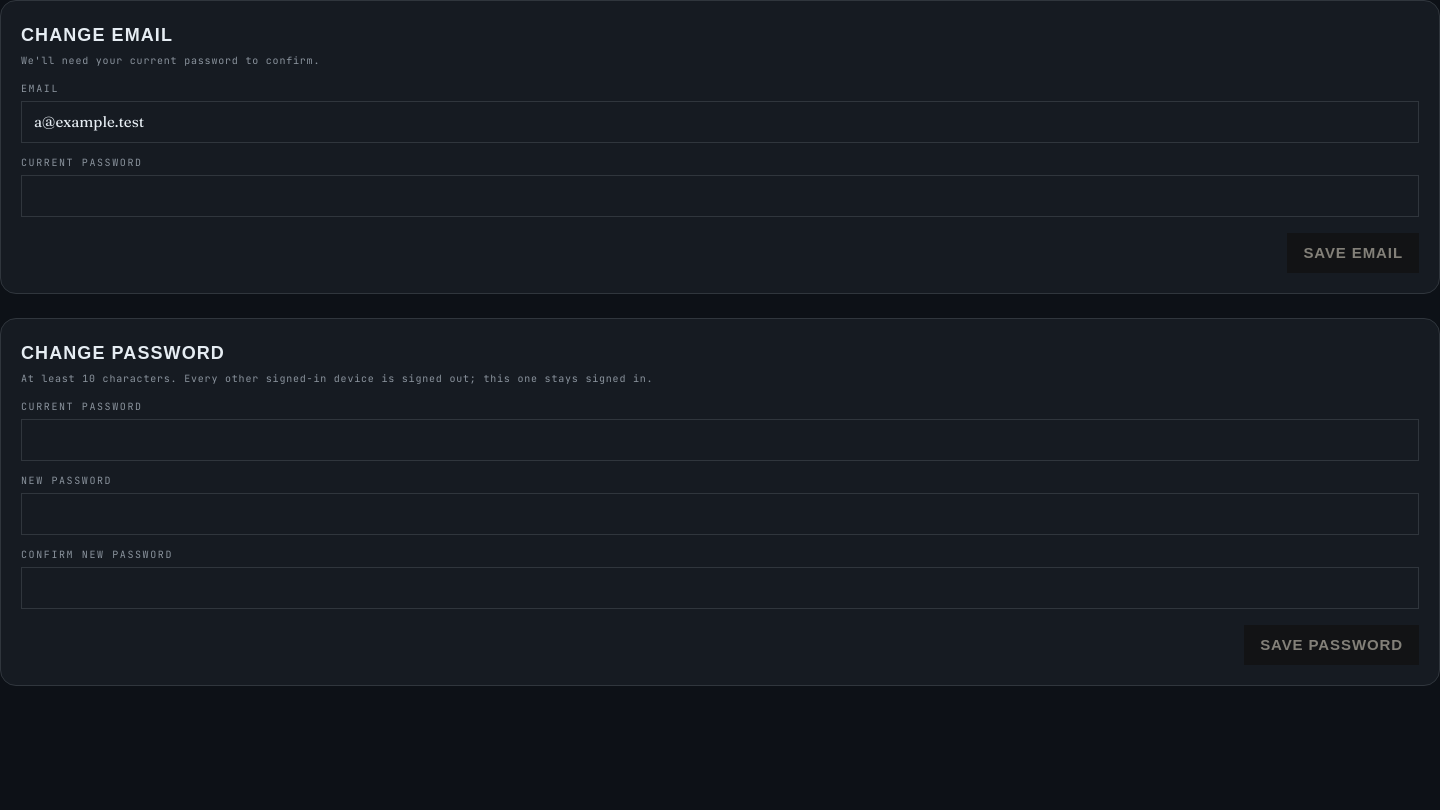
an indeterminate outcome is not called a failure › still reports a DEFINITE rejection plainly
Type "old-password" into the password field labelled "CURRENT PASSWORD" below "Change password" at (720, 440), box [21,419,1419,461]
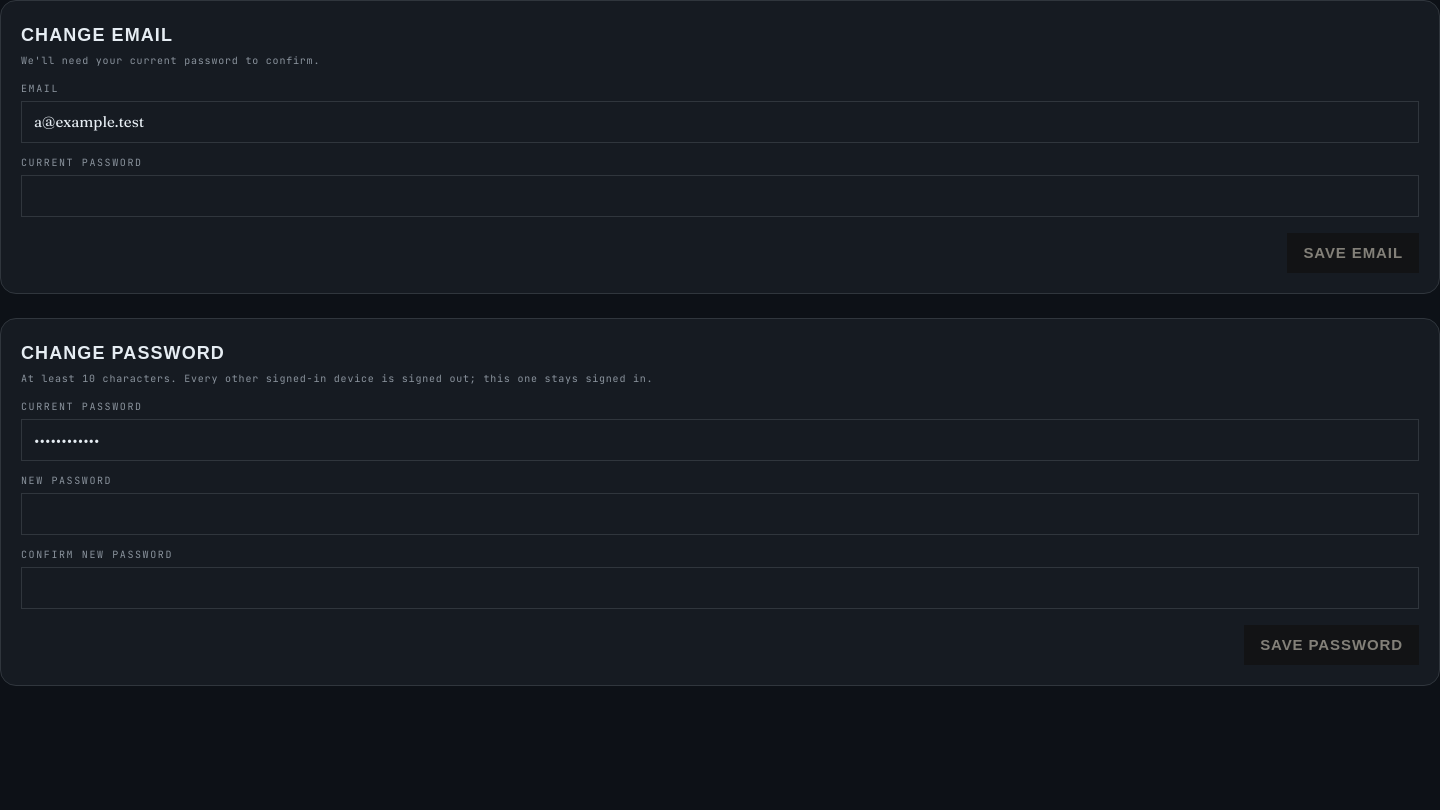
Type "a-new-password-10" into the password field labelled "NEW PASSWORD" at (720, 514), box [21,493,1419,535]
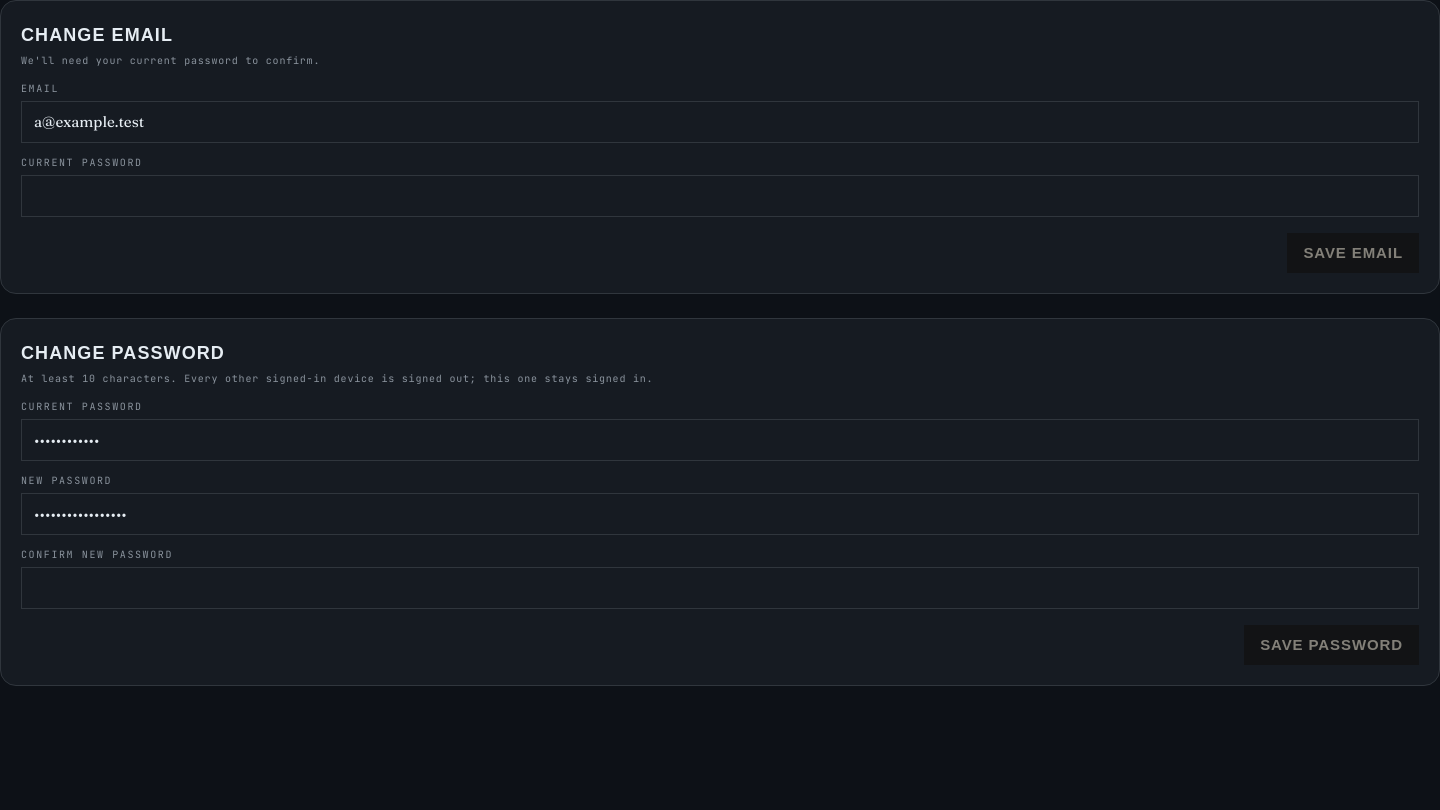
Type "a-new-password-10" into the password field labelled "CONFIRM NEW PASSWORD" at (720, 588), box [21,567,1419,609]
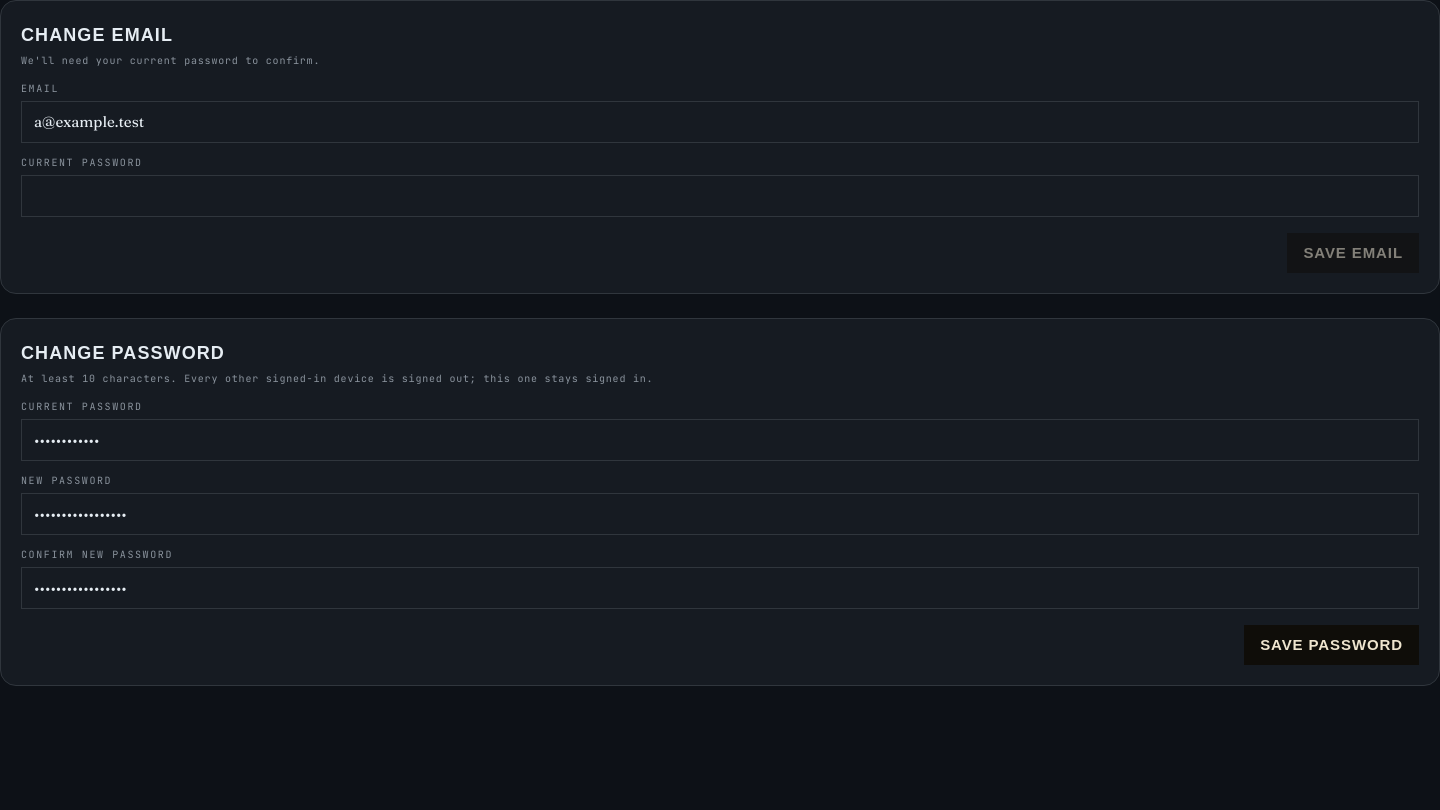
Click the button "Save password" at (1332, 645), box [1244,625,1419,665]
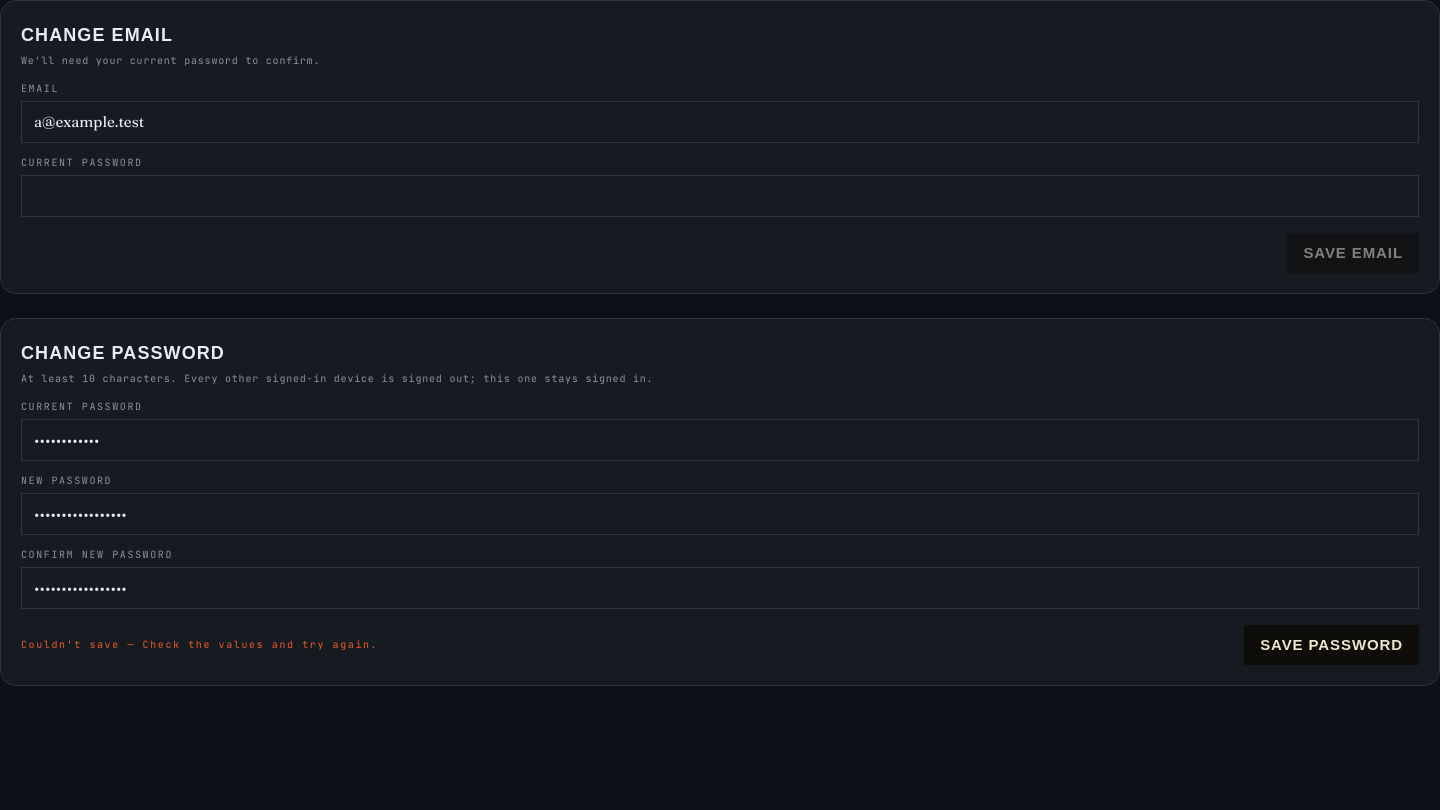
Check: the message "Couldn't save — Check the values and try again." is shown, box [21,637,378,653]
